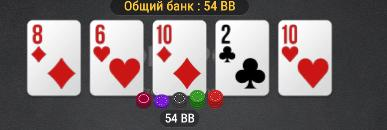10d: (155, 22, 204, 92)
10h: (279, 22, 331, 94)
2c: (217, 22, 267, 92)
6h: (91, 21, 141, 94)
8d: (28, 21, 79, 93)
